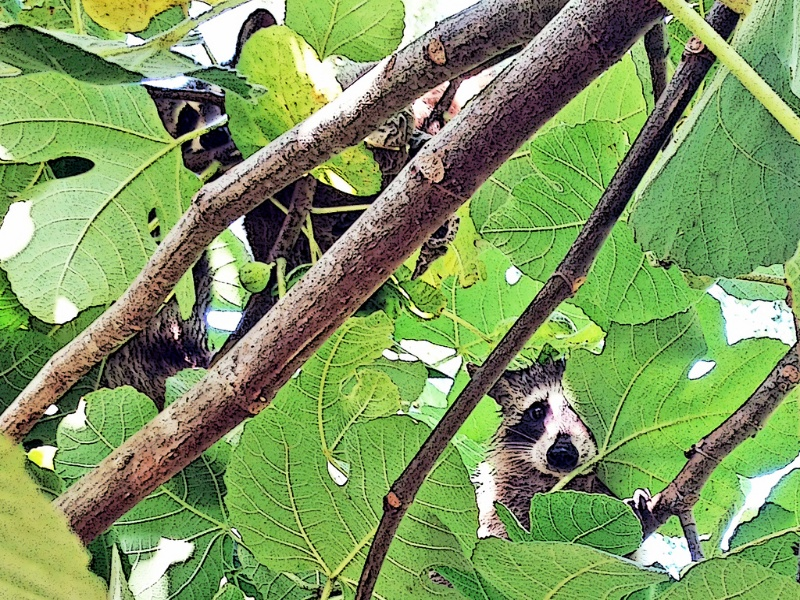raccoon: (480, 362, 667, 558)
